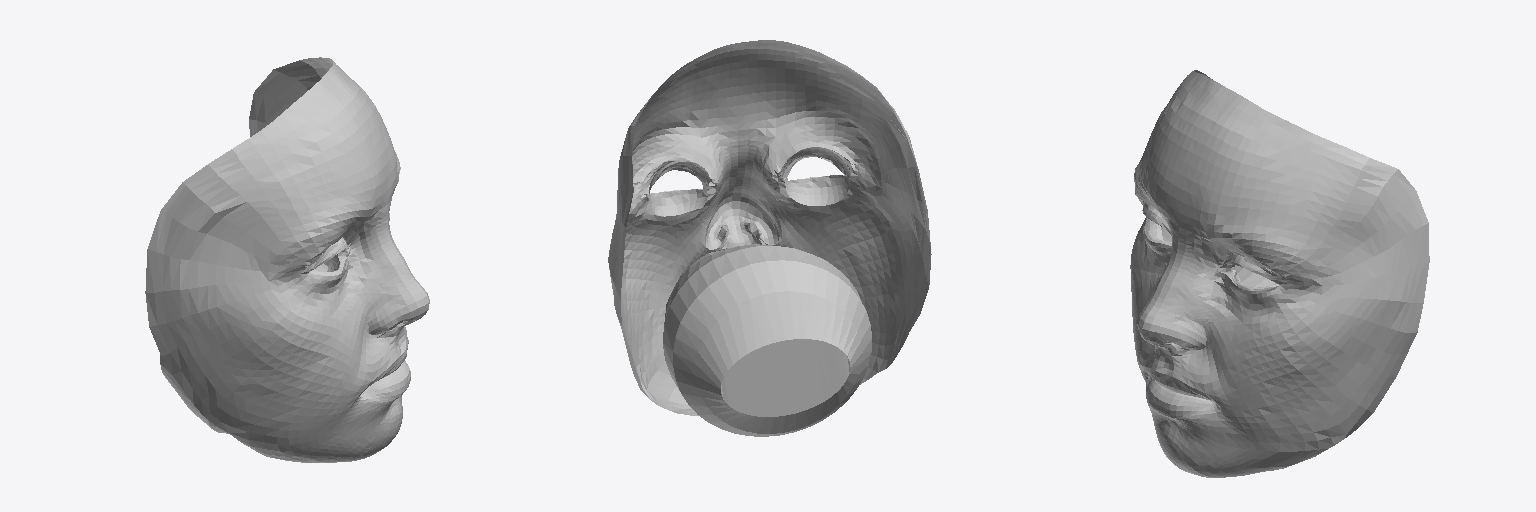
File: rotateR.obj
The picture shows the model from 3 angles: view 1: azimuth 30°, elevation 25°; view 2: azimuth 150°, elevation 25°; view 3: azimuth 270°, elevation 25°; orthographic projection.
Visible parts, largest first — view 1: face geoGroup Emily; view 2: face geoGroup Emily; view 3: face geoGroup Emily.
Boxes of the visible parts, <box> form: face geoGroup Emily: <box>145,57,429,462</box>; face geoGroup Emily: <box>608,40,931,436</box>; face geoGroup Emily: <box>1130,70,1429,477</box>.
Bounding box in the file's own units: 14.09 × 18.36 × 13.32.